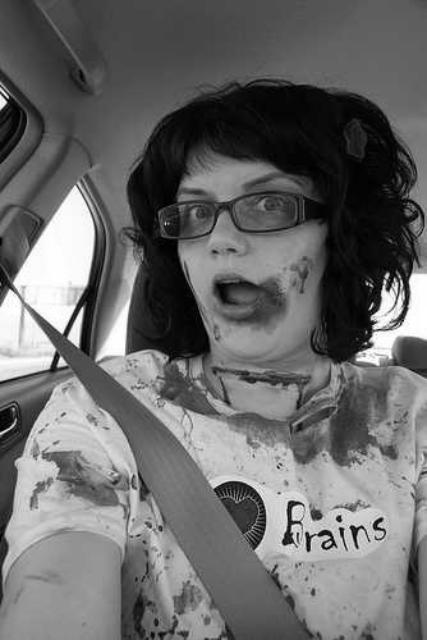SafeDriving: (178, 194, 216, 225), (245, 194, 287, 218)
Seatbelt: (0, 200, 318, 640)
